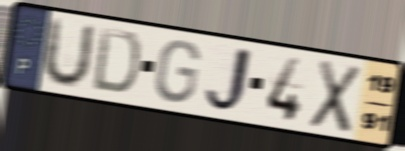4: (264, 54, 303, 123)
D: (90, 24, 143, 97)
G: (153, 38, 203, 105)
J: (201, 43, 255, 116)
U: (38, 15, 97, 91)
X: (307, 57, 364, 137)
